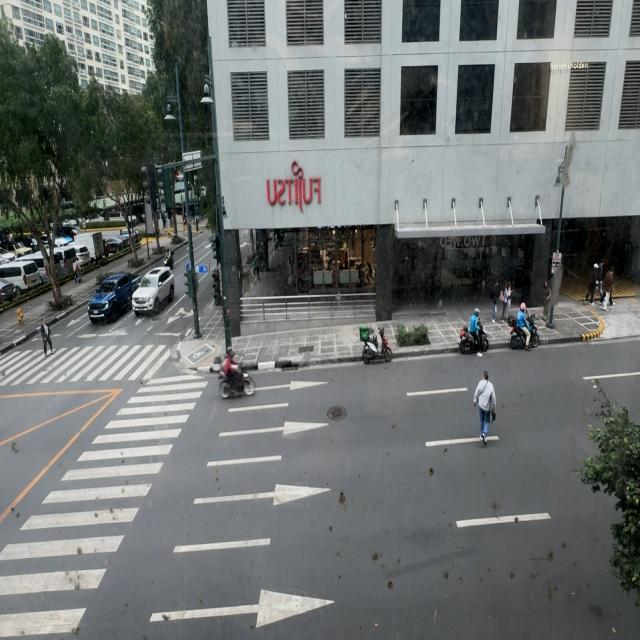waiting: (40, 318, 53, 357)
